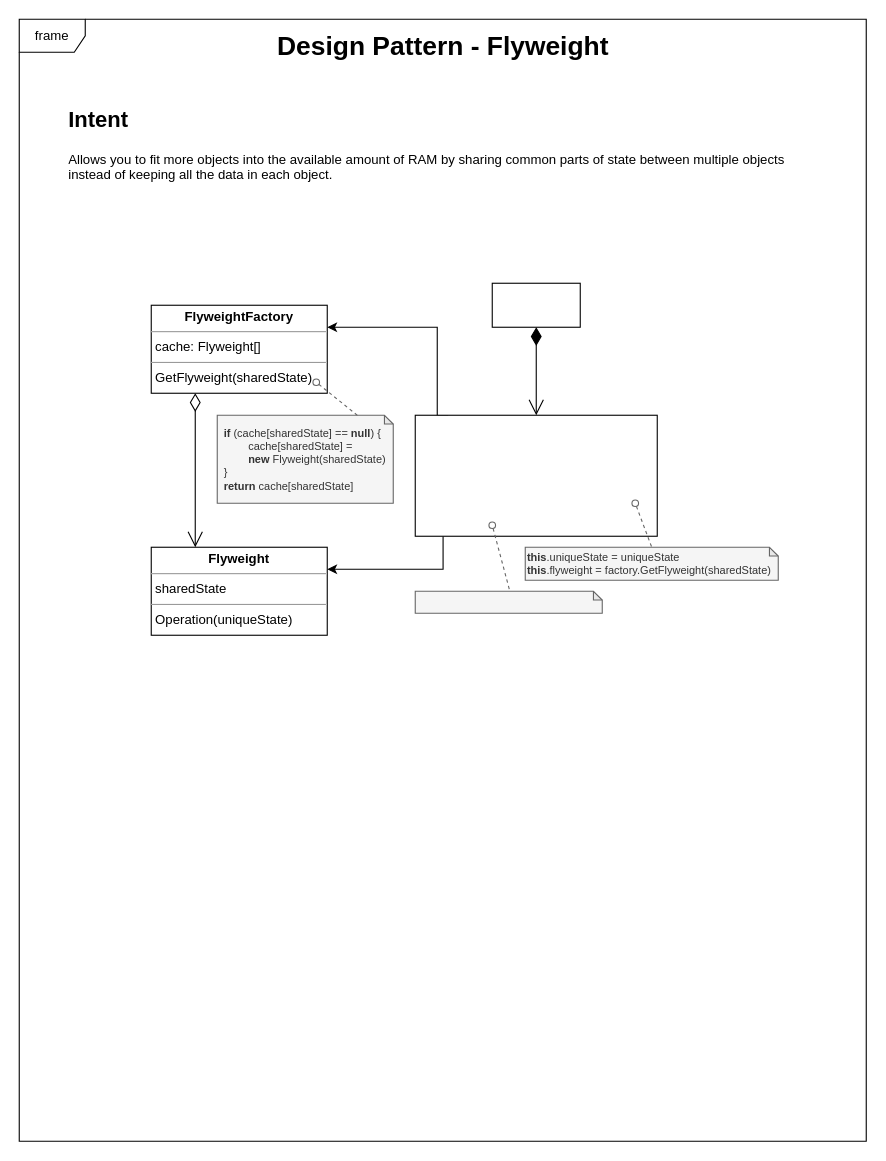
Image size: 886x1161. Some labels were removed from this diagram. Here are the shapes that lost their labels. From the top down, the centre of each, then its label:
the point at 535,304: Client
the point at 535,475: Context uniqueState flyweight Context(sharedState, uniqueState) Operation()
the point at 508,601: flyweight.Operation(uniqueState)
